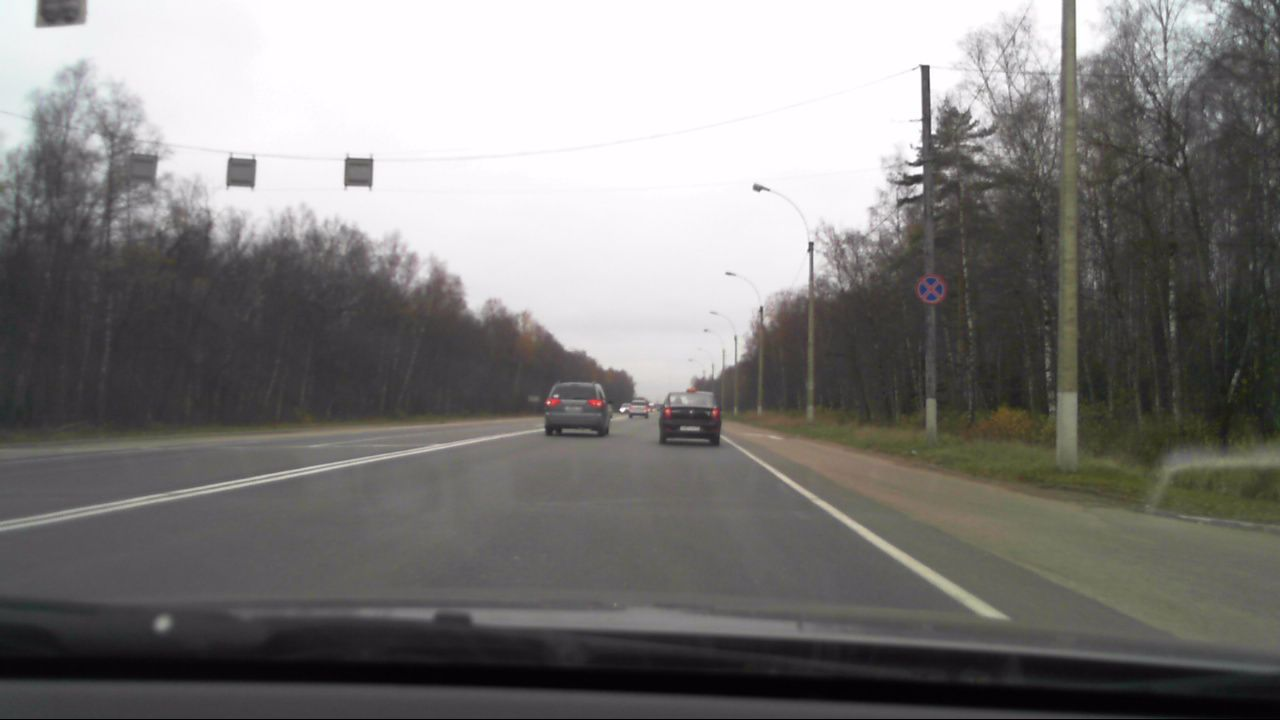No Parking: (914, 274, 942, 304)
